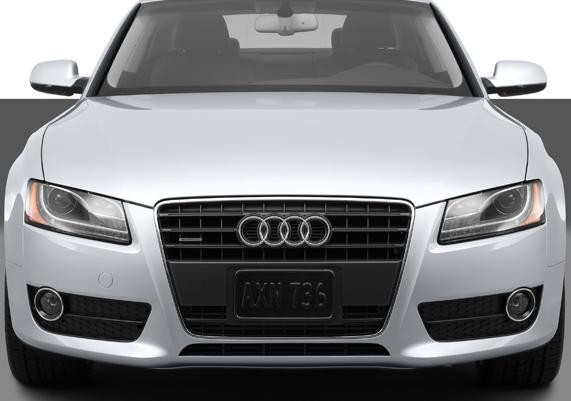front_view: (5, 145, 571, 362)
headlight: (431, 179, 557, 241)
